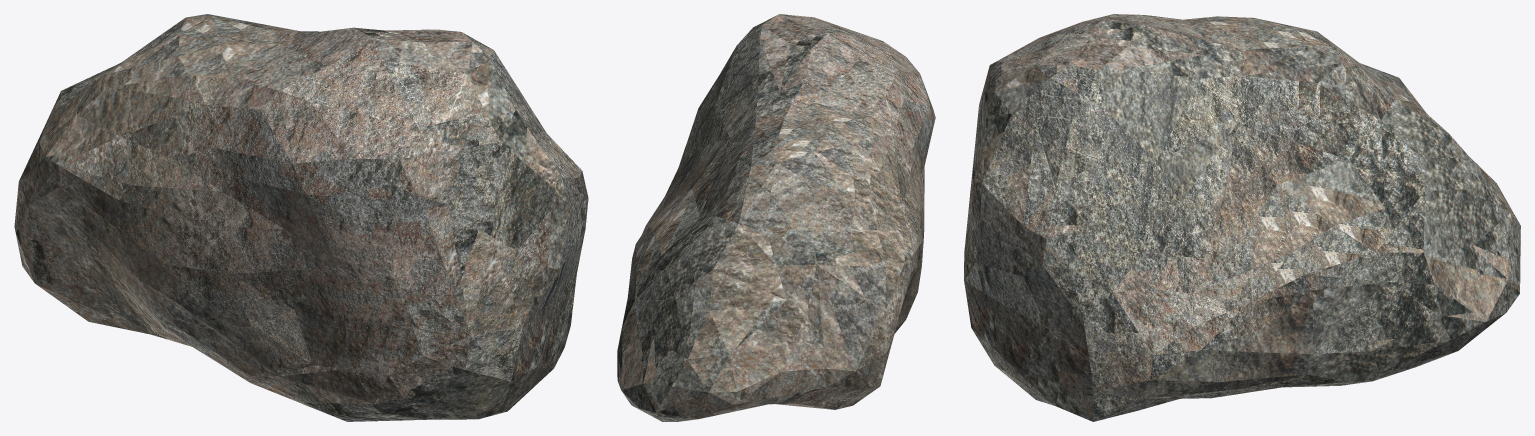
The model's file is Rocks-b.fbx.
The picture shows the model from 3 angles, left to right: view 1: azimuth 30°, elevation 25°; view 2: azimuth 150°, elevation 25°; view 3: azimuth 270°, elevation 25°; orthographic projection. The views are drawn at different scales.
Visible parts, largest first — view 1: skp6C1_1; view 2: skp6C1_1; view 3: skp6C1_1.
Boxes of the visible parts, left/top/right/bottom form: skp6C1_1: left=14, top=14, right=588, bottom=421; skp6C1_1: left=617, top=14, right=935, bottom=421; skp6C1_1: left=964, top=14, right=1520, bottom=421.
Bounding box in the file's own units: 93.43 × 80.06 × 119.
